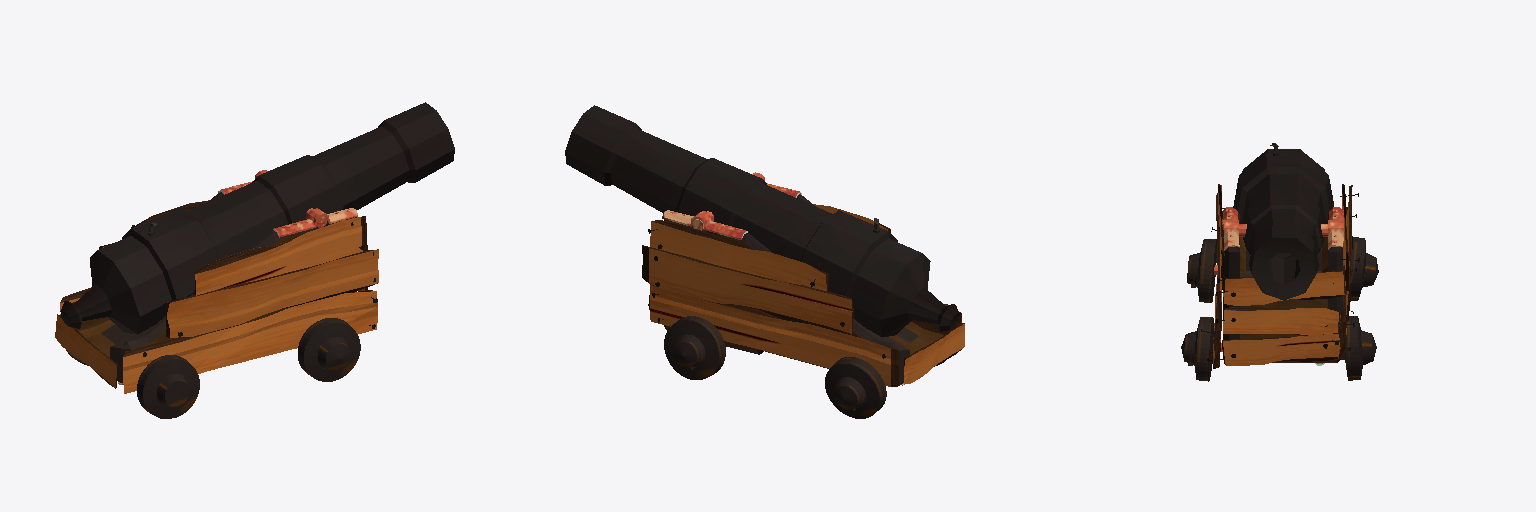
3 views of the same model, side by side, from view 1: azimuth 30°, elevation 25°; view 2: azimuth 150°, elevation 25°; view 3: azimuth 270°, elevation 25° (orthographic).
Parts seen in each view (by area): view 1: pCylinder2_WHEELTEXT_0, pCylinder2_Wood_text_0; view 2: pCylinder2_WHEELTEXT_0, pCylinder2_Wood_text_0; view 3: pCylinder2_WHEELTEXT_0, pCylinder2_Wood_text_0.
Part boxes in pixels (bbox=[...]): pCylinder2_WHEELTEXT_0: bbox=[60, 102, 454, 418]; pCylinder2_Wood_text_0: bbox=[55, 200, 378, 393]; pCylinder2_WHEELTEXT_0: bbox=[565, 105, 959, 418]; pCylinder2_Wood_text_0: bbox=[642, 204, 964, 386]; pCylinder2_WHEELTEXT_0: bbox=[1181, 143, 1378, 381]; pCylinder2_Wood_text_0: bbox=[1213, 184, 1352, 368].
Size of the model in its own units: 2.08 by 1.09 by 0.9353.
3 materials, 2 textured.